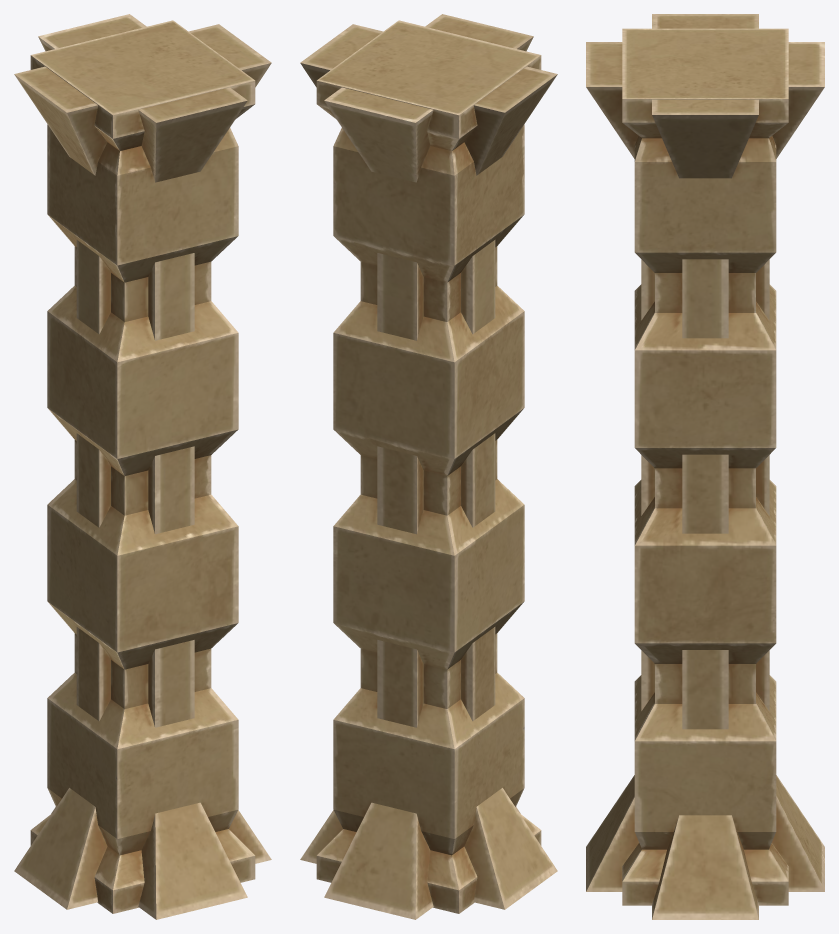
Rendered from Ruin pillar 1.FBX.
3 renders of one model, left to right at view 1: azimuth 30°, elevation 25°; view 2: azimuth 150°, elevation 25°; view 3: azimuth 270°, elevation 25°, orthographic.
Parts seen in each view (by area): view 1: Pillar 002; view 2: Pillar 002; view 3: Pillar 002.
Boxes of the visible parts, x1,y1,x2,y2 form: Pillar 002: [14, 14, 271, 919]; Pillar 002: [300, 14, 557, 919]; Pillar 002: [586, 14, 824, 919].
Size of the model in its own units: 682 by 2542 by 682.
Materials: 1 (1 with a texture image).
